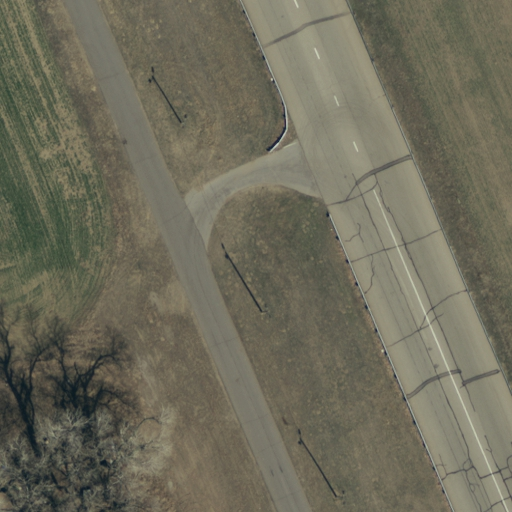DT: (329, 484, 353, 510), (255, 299, 277, 326), (173, 109, 192, 135)
